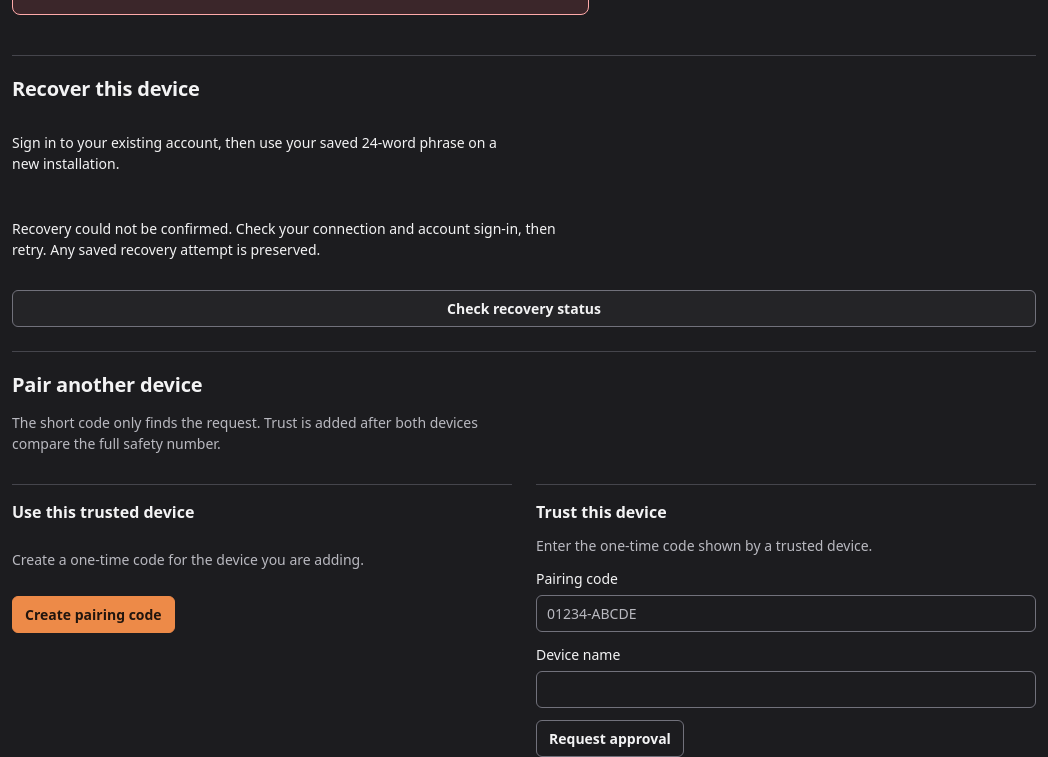
Test: tells the user a code expired instead of showing 0 seconds remaining
(page scrolled)
Click the button "Create pairing code".
click(93, 615)  # box [12,596,175,633]
Wait 120000 ms
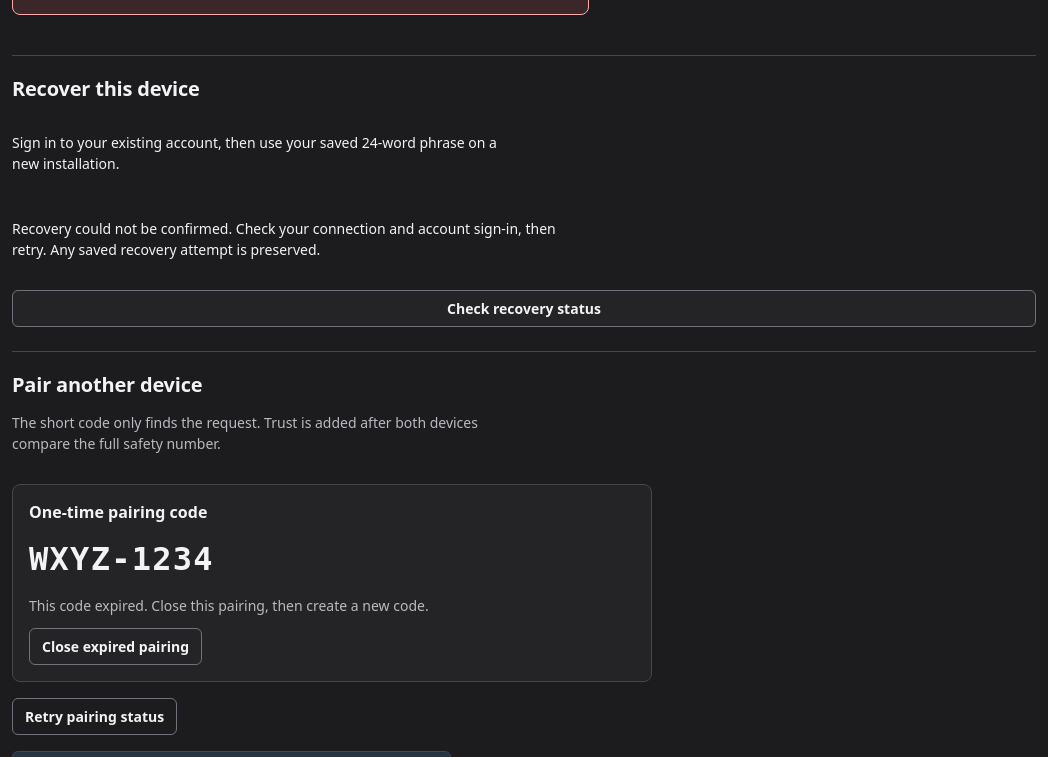
Expected: the text "This code expired. Close this pairing, then create a new code." is shown, [29,596,429,615]
